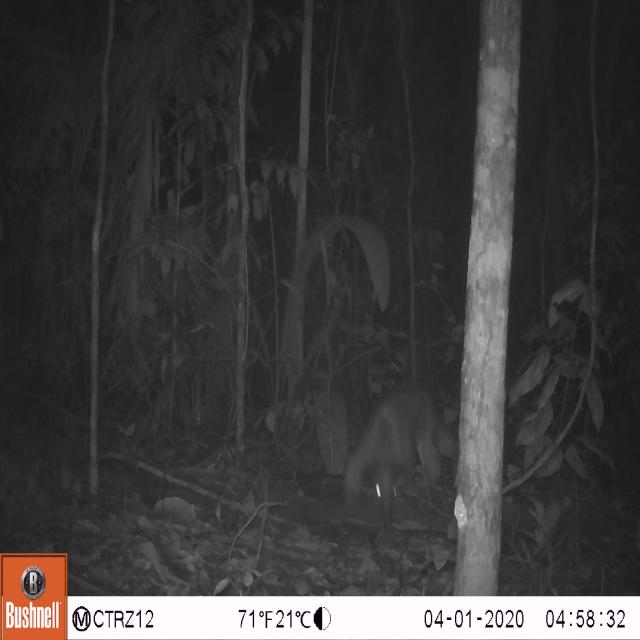Southern Tamandua: (332, 361, 457, 523)
